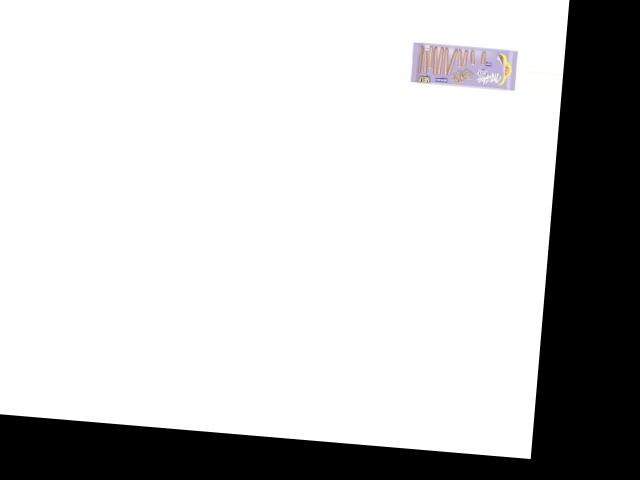chocolate: (407, 36, 519, 92)
